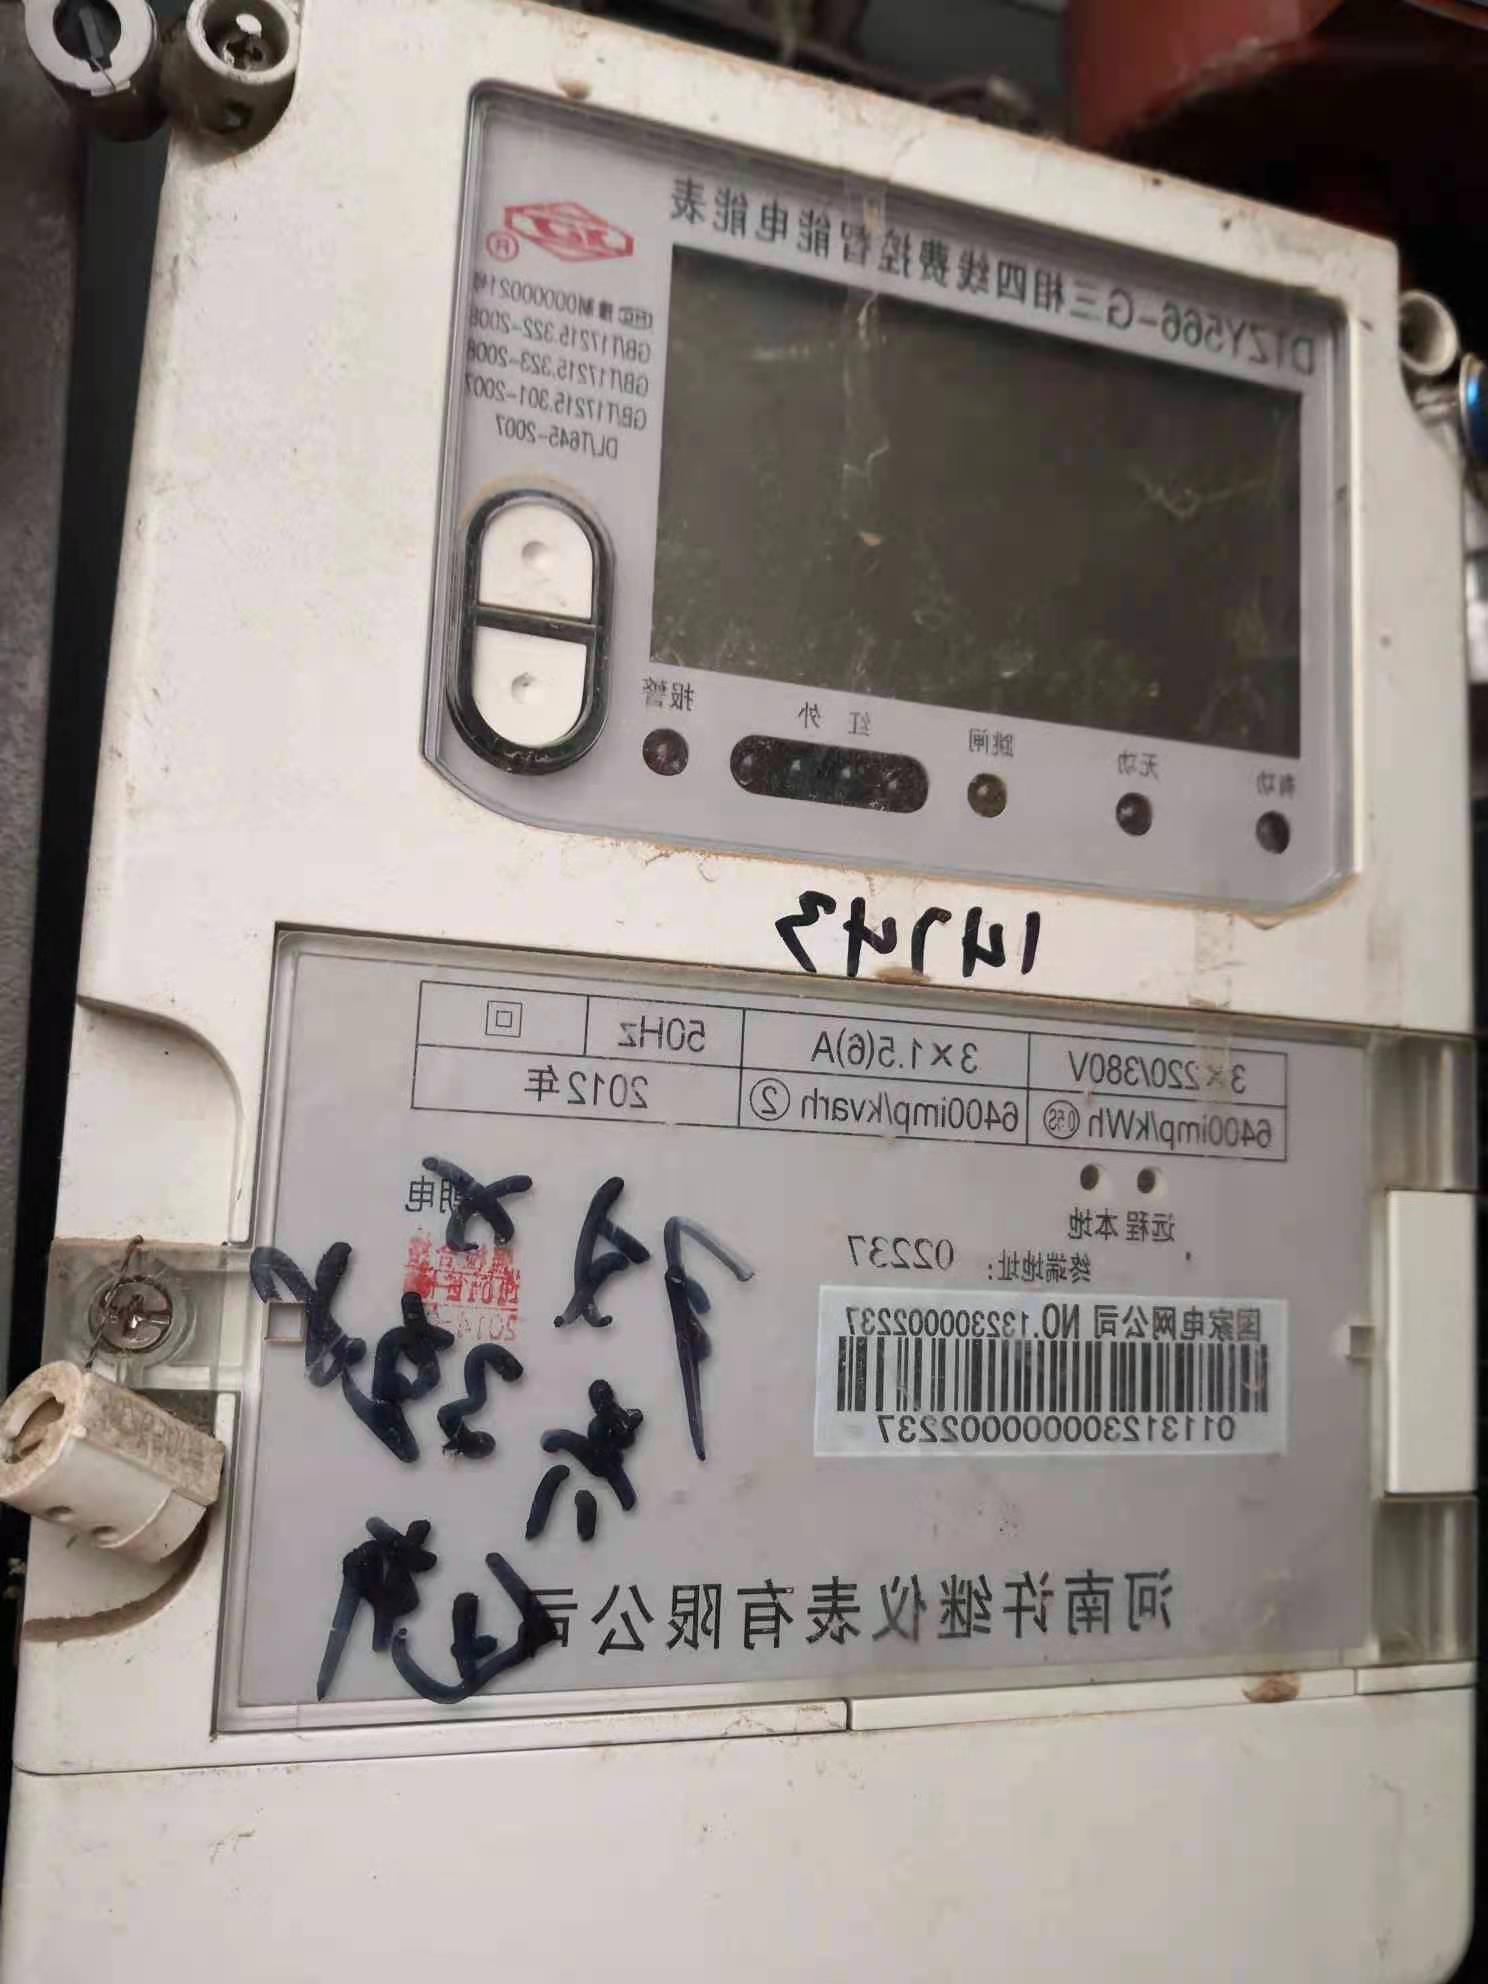digital: (16, 44, 1475, 1982)
